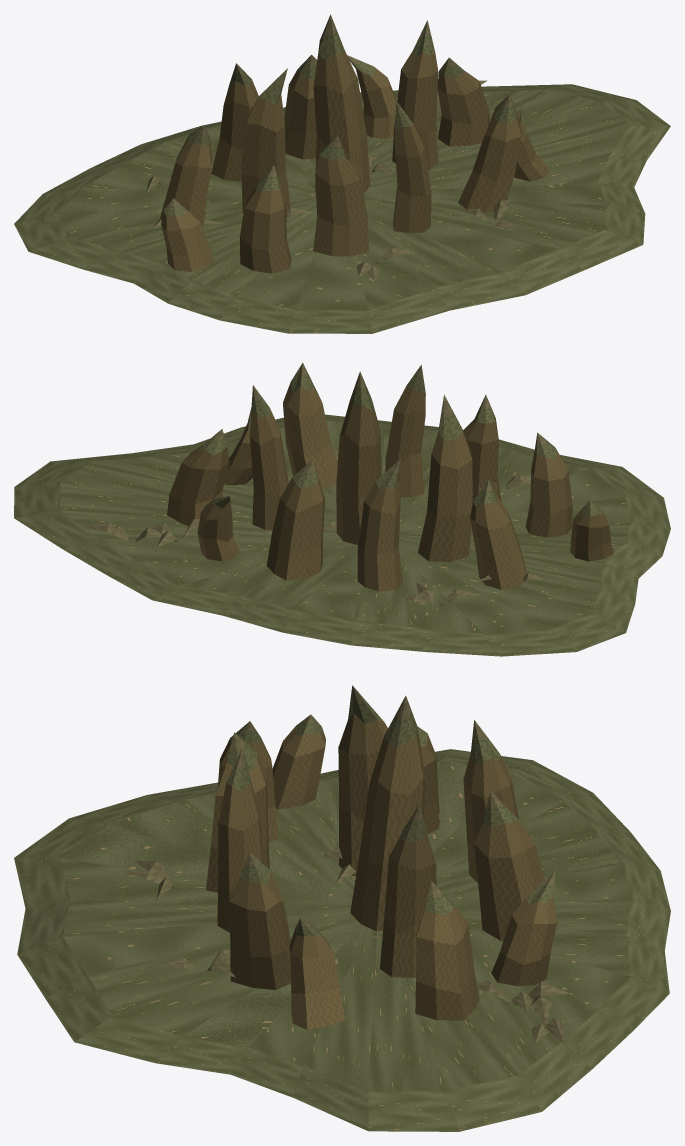
3 renders of one model, top to bottom at view 1: azimuth 30°, elevation 25°; view 2: azimuth 150°, elevation 25°; view 3: azimuth 270°, elevation 25°, orthographic. The views are drawn at different scales.
Visible parts, largest first — view 1: garrison_part_0000, garrison_part_0001; view 2: garrison_part_0000, garrison_part_0001; view 3: garrison_part_0000, garrison_part_0001.
Boxes of the visible parts, bbox=[...] form: garrison_part_0000: bbox=[14, 80, 670, 333]; garrison_part_0001: bbox=[160, 14, 550, 273]; garrison_part_0000: bbox=[14, 414, 670, 656]; garrison_part_0001: bbox=[167, 362, 613, 591]; garrison_part_0000: bbox=[14, 749, 670, 1131]; garrison_part_0001: bbox=[206, 685, 558, 1029].
Bounding box in the file's own units: 640 × 181 × 464.
